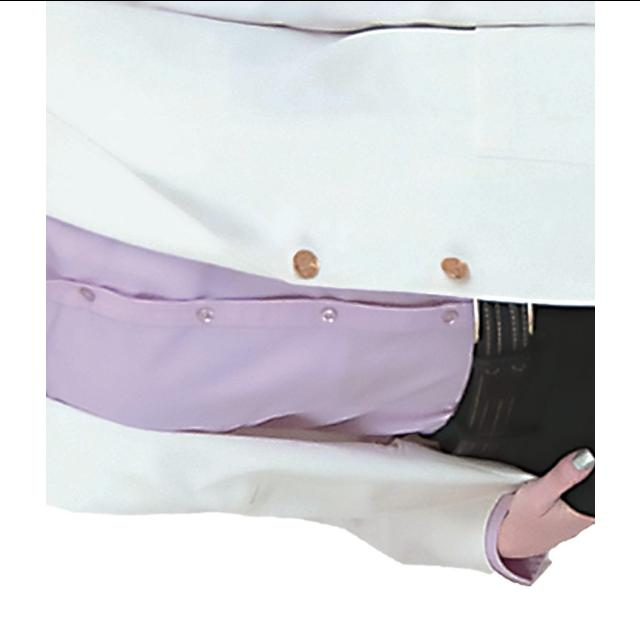polyester: (45, 1, 493, 576)
